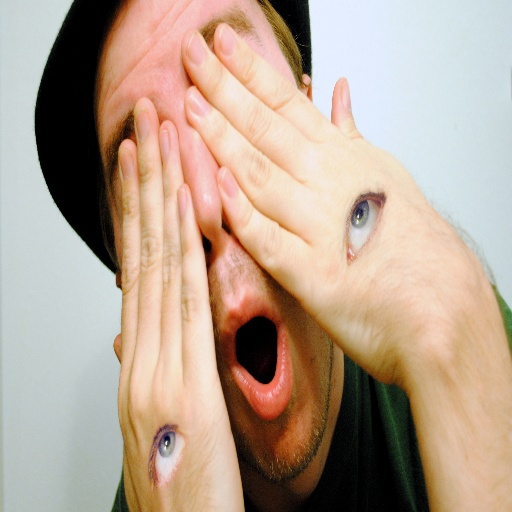hand: (180, 22, 479, 386), (112, 98, 244, 511)
